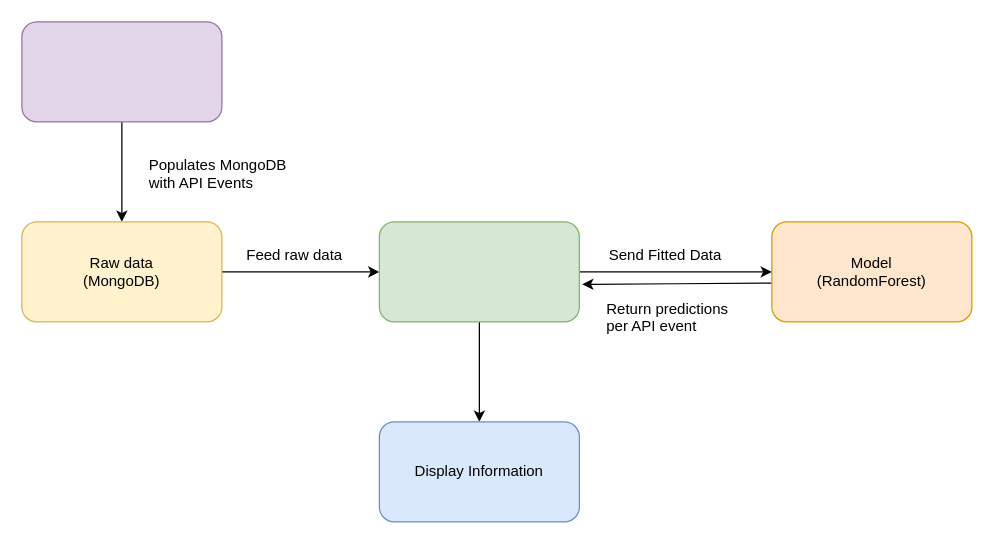
This 994x544 diagram has some shape labels left out. The box of each missing label's shape, as (x1, y1, x2, y2) in pixels:
API Client: (21, 21, 222, 122)
WebApp (Flask): (378, 221, 579, 322)
